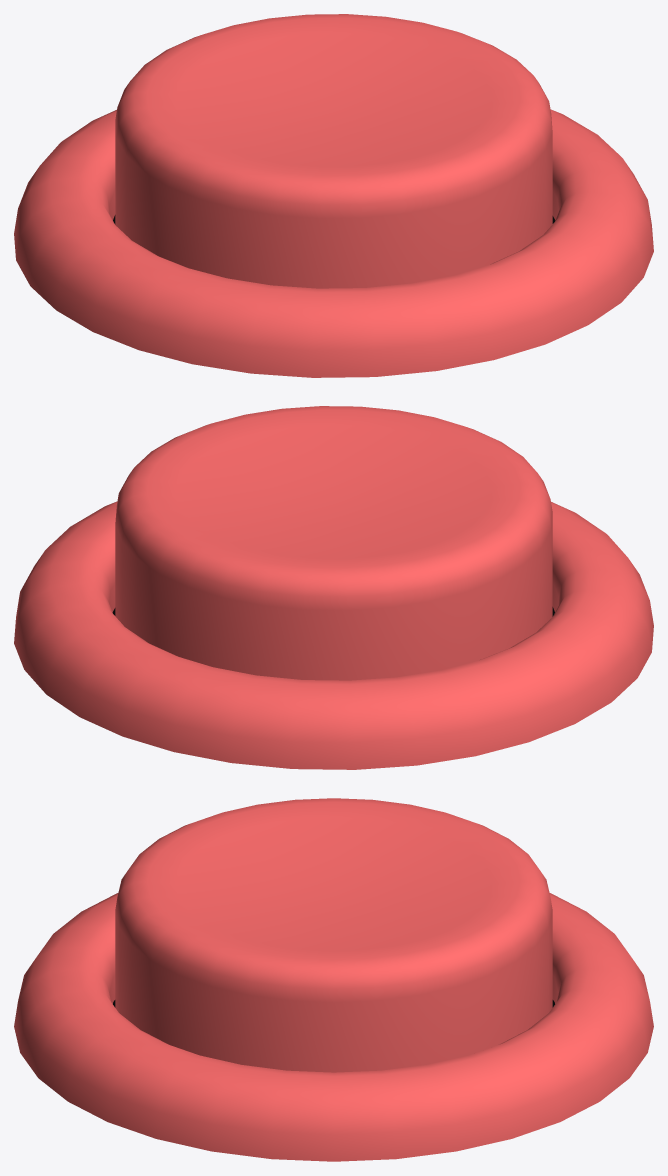
Rendered from SM_PlayerActivator.fbx.
The picture shows the model from 3 angles, top to bottom: view 1: azimuth 30°, elevation 25°; view 2: azimuth 150°, elevation 25°; view 3: azimuth 270°, elevation 25°; orthographic projection.
Visible parts, largest first — view 1: SM_Activator_Button, SM_PlayerActivator; view 2: SM_Activator_Button, SM_PlayerActivator; view 3: SM_Activator_Button, SM_PlayerActivator.
Boxes of the visible parts, x1=… form: SM_Activator_Button: x1=115, y1=14, x2=552, y2=288; SM_PlayerActivator: x1=14, y1=109, x2=653, y2=377; SM_Activator_Button: x1=115, y1=406, x2=552, y2=680; SM_PlayerActivator: x1=14, y1=501, x2=653, y2=769; SM_Activator_Button: x1=115, y1=798, x2=552, y2=1072; SM_PlayerActivator: x1=14, y1=893, x2=653, y2=1161.
Bounding box in the file's own units: 100 × 25.07 × 100.
